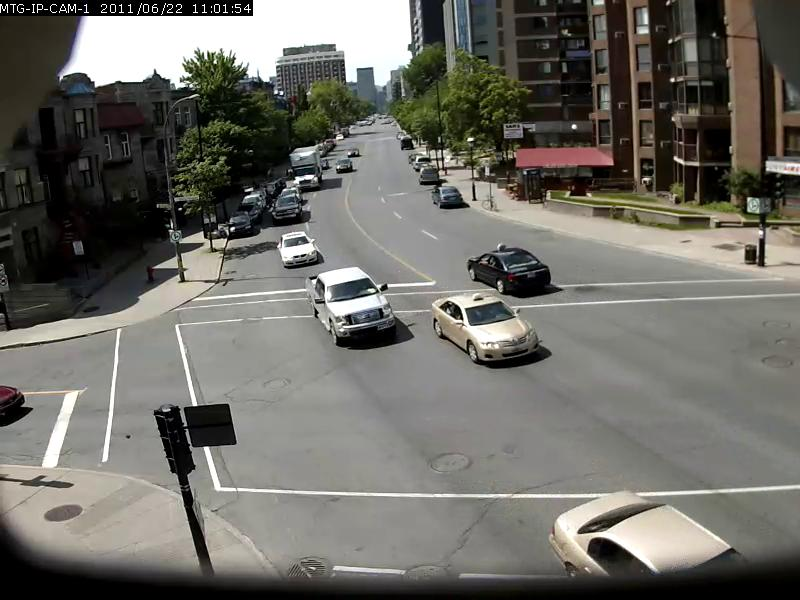Car: (547, 489, 752, 577), (427, 291, 540, 370), (307, 265, 394, 345), (465, 244, 550, 296), (276, 230, 319, 270), (273, 191, 301, 220), (335, 158, 352, 172)
Truck: (288, 146, 322, 188)
